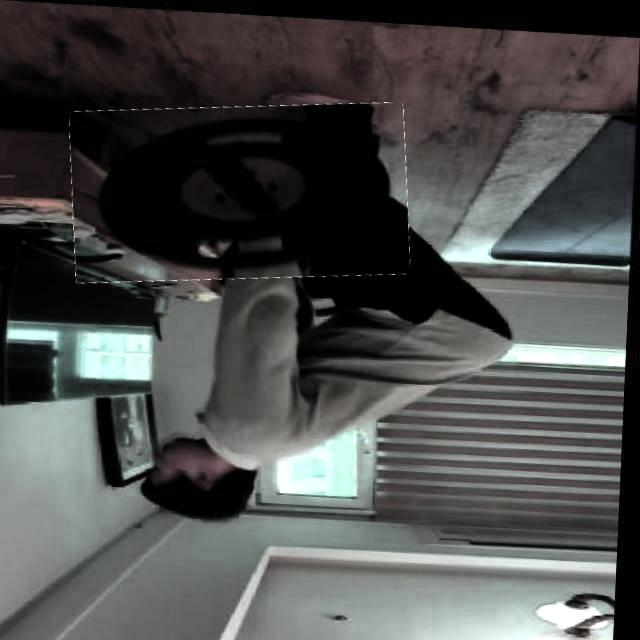barbell: (69, 91, 415, 291)
